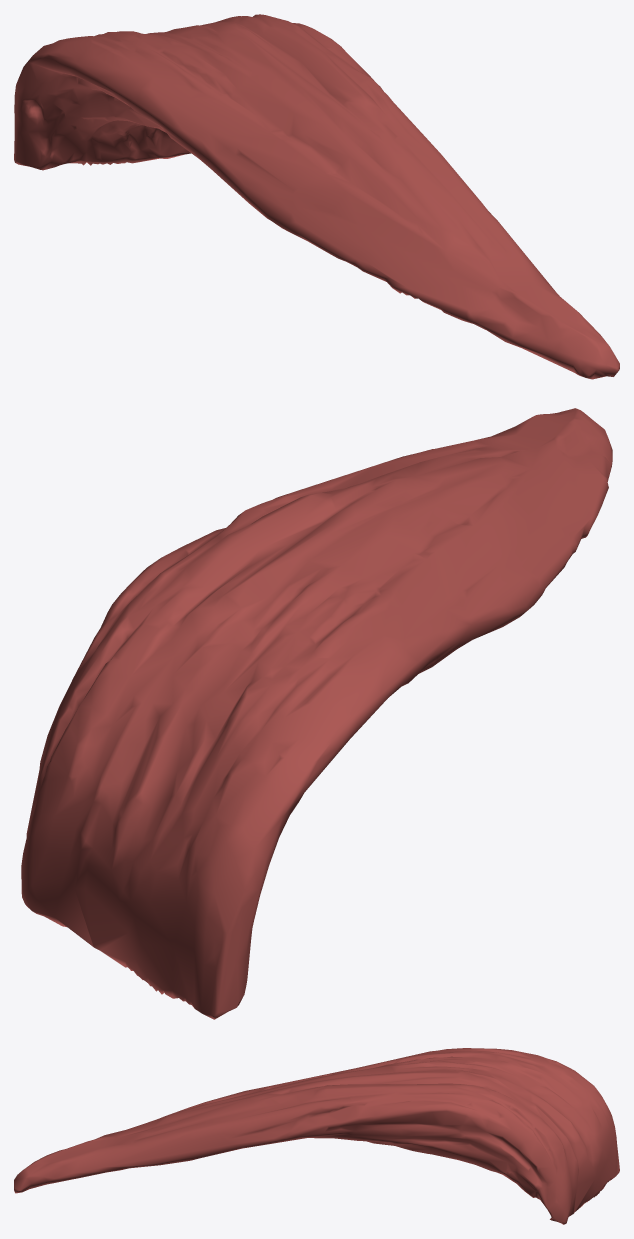
Rendered from FMA46326.glb.
3 renders of one model, top to bottom at view 1: azimuth 30°, elevation 25°; view 2: azimuth 150°, elevation 25°; view 3: azimuth 270°, elevation 25°, orthographic. The views are drawn at different scales.
Visible parts, largest first — view 1: FMA46326; view 2: FMA46326; view 3: FMA46326.
Boxes of the visible parts, x1=… form: FMA46326: x1=14, y1=14, x2=619, y2=379; FMA46326: x1=21, y1=408, x2=612, y2=1019; FMA46326: x1=14, y1=1048, x2=619, y2=1224.
Size of the model in its own units: 0.0109 by 0.00989 by 0.0388.
